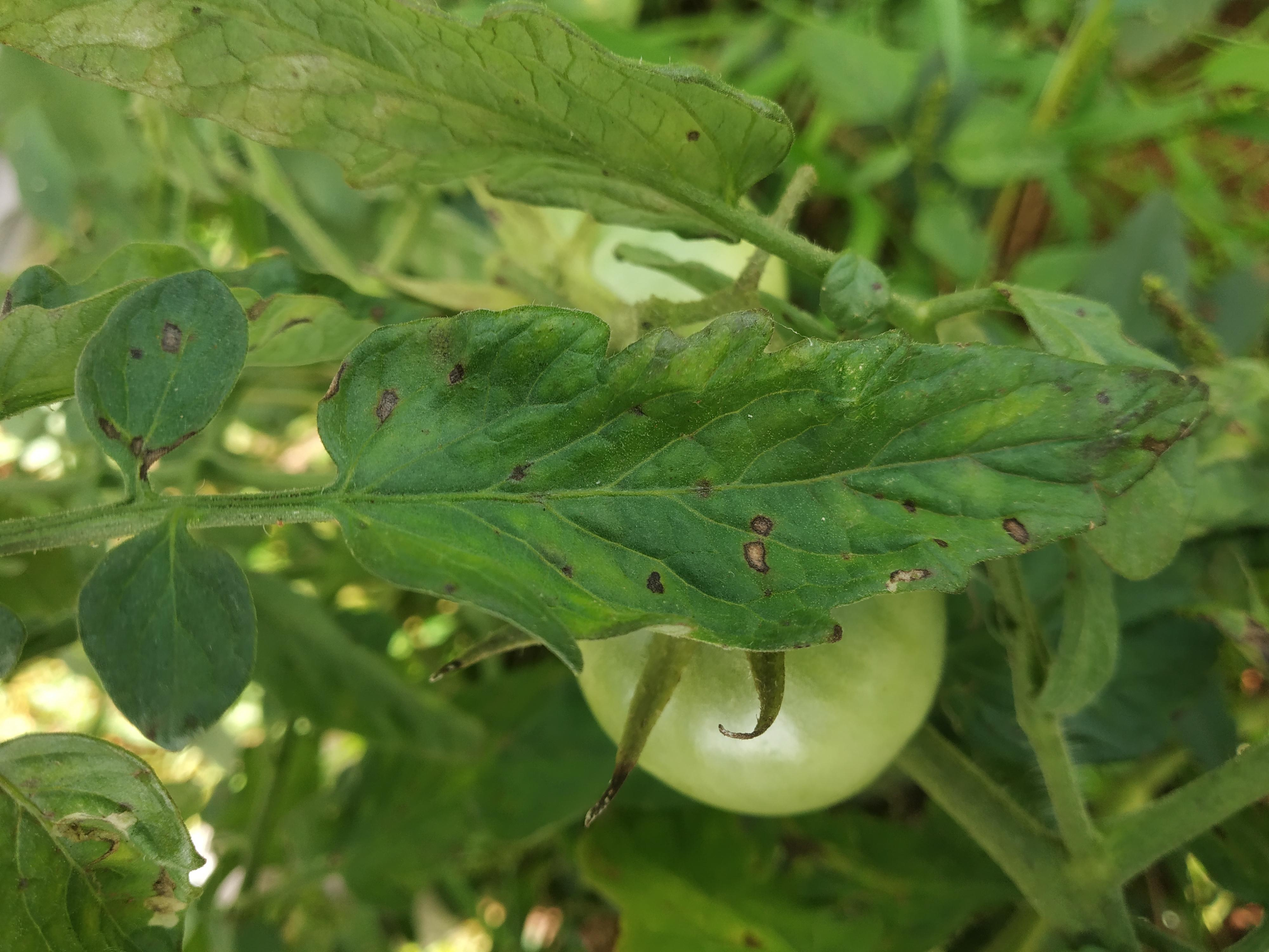Early Blight: (395, 236, 862, 913), (614, 52, 921, 194)
